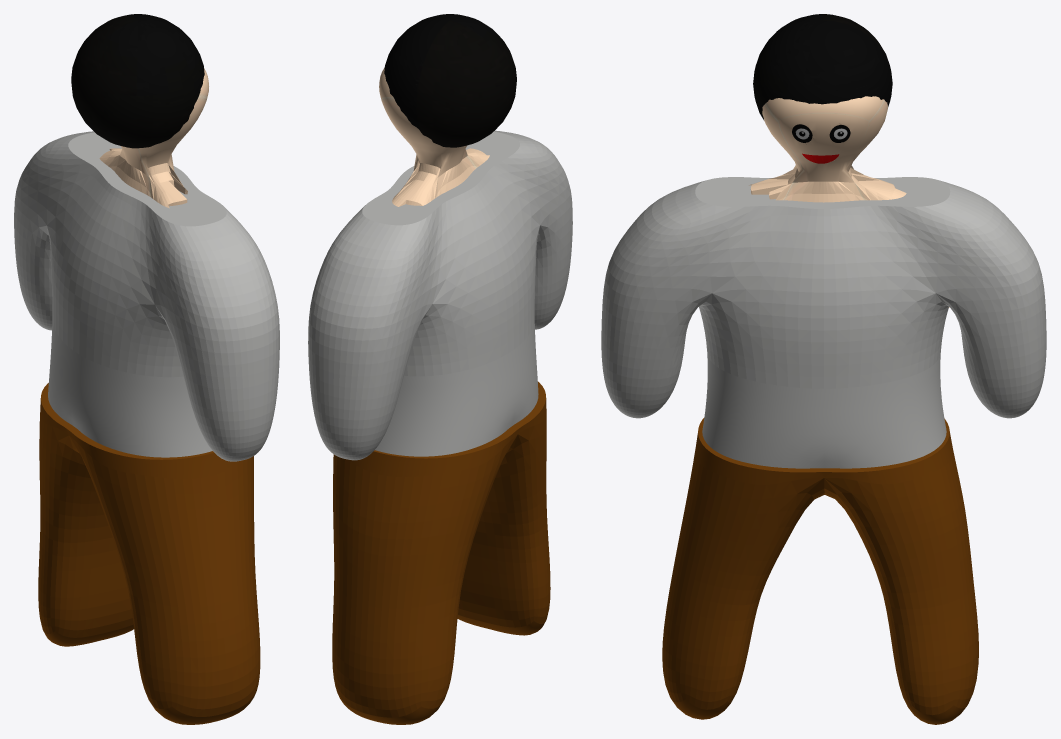
3 renders of one model, left to right at view 1: azimuth 30°, elevation 25°; view 2: azimuth 150°, elevation 25°; view 3: azimuth 270°, elevation 25°, orthographic. The views are drawn at different scales.
Parts seen in each view (by area): view 1: Box021, Box026, Sphere001, Box012; view 2: Box021, Box026, Sphere001, Box012; view 3: Box021, Box026, Sphere001, Box012.
Boxes of the visible parts, box(x1,y1,x2,y2) form: Box021: box(14, 131, 279, 461); Box026: box(38, 383, 260, 724); Sphere001: box(71, 14, 204, 148); Box012: box(99, 68, 208, 208); Box021: box(308, 130, 572, 460); Box026: box(332, 381, 550, 724); Sphere001: box(384, 14, 516, 147); Box012: box(379, 68, 489, 206); Box021: box(601, 177, 1046, 468); Box026: box(662, 418, 978, 724); Sphere001: box(753, 14, 892, 119); Box012: box(749, 96, 949, 307).
Size of the model in its own units: 22.91 by 90.5 by 53.13.
6 materials, 6 textured.
